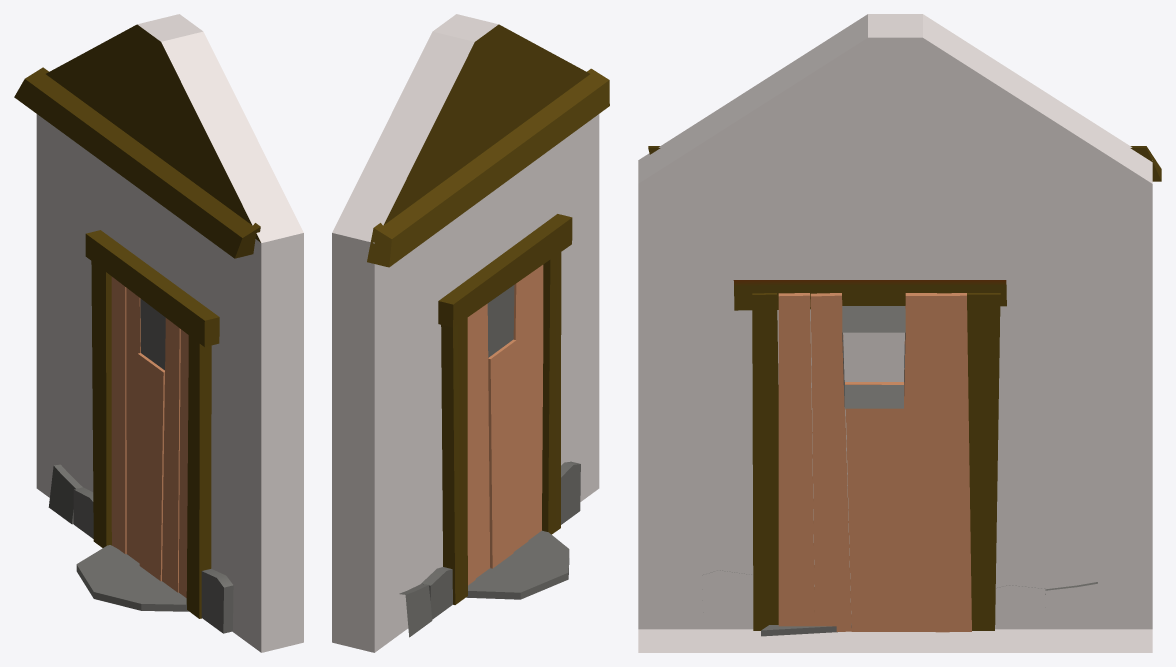
Rendered from SM_FrontWall2_LOD0.fbx.
3 views of the same model, side by side, from view 1: azimuth 30°, elevation 25°; view 2: azimuth 150°, elevation 25°; view 3: azimuth 270°, elevation 25° (orthographic). The views are drawn at different scales.
Visible parts, largest first — view 1: SM_FrontWall2_LOD0; view 2: SM_FrontWall2_LOD0; view 3: SM_FrontWall2_LOD0.
Part boxes in pixels (x1,y1,x2,y2): SM_FrontWall2_LOD0: (14,14,303,652); SM_FrontWall2_LOD0: (332,14,609,652); SM_FrontWall2_LOD0: (638,14,1161,652).
Bounding box in the file's own units: 2.22 × 9.84 × 7.56.
